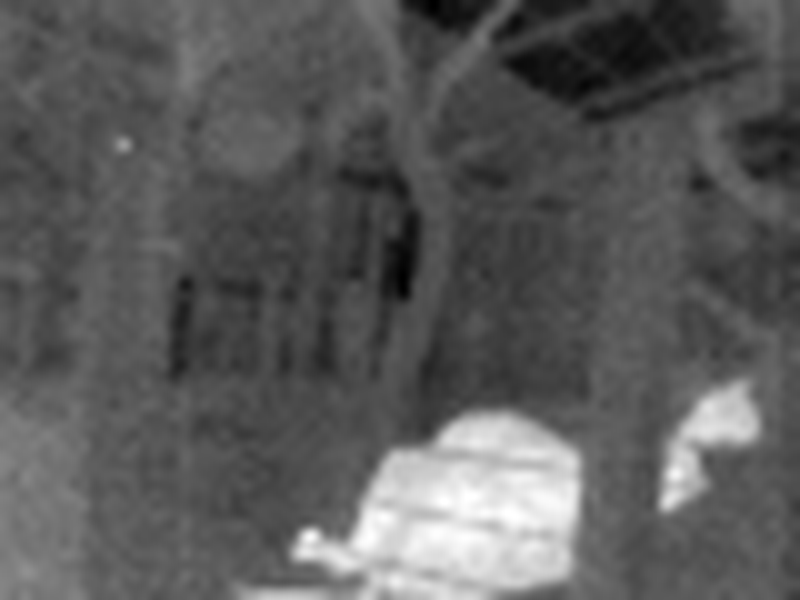elephant: (322, 371, 800, 600)
